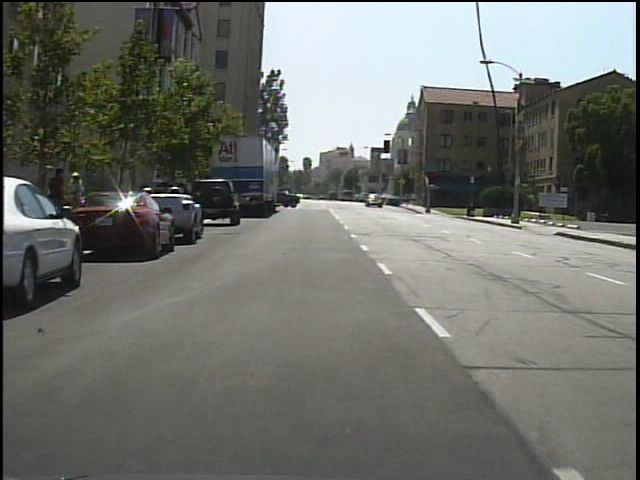person: (47, 164, 75, 235), (66, 170, 91, 225)
